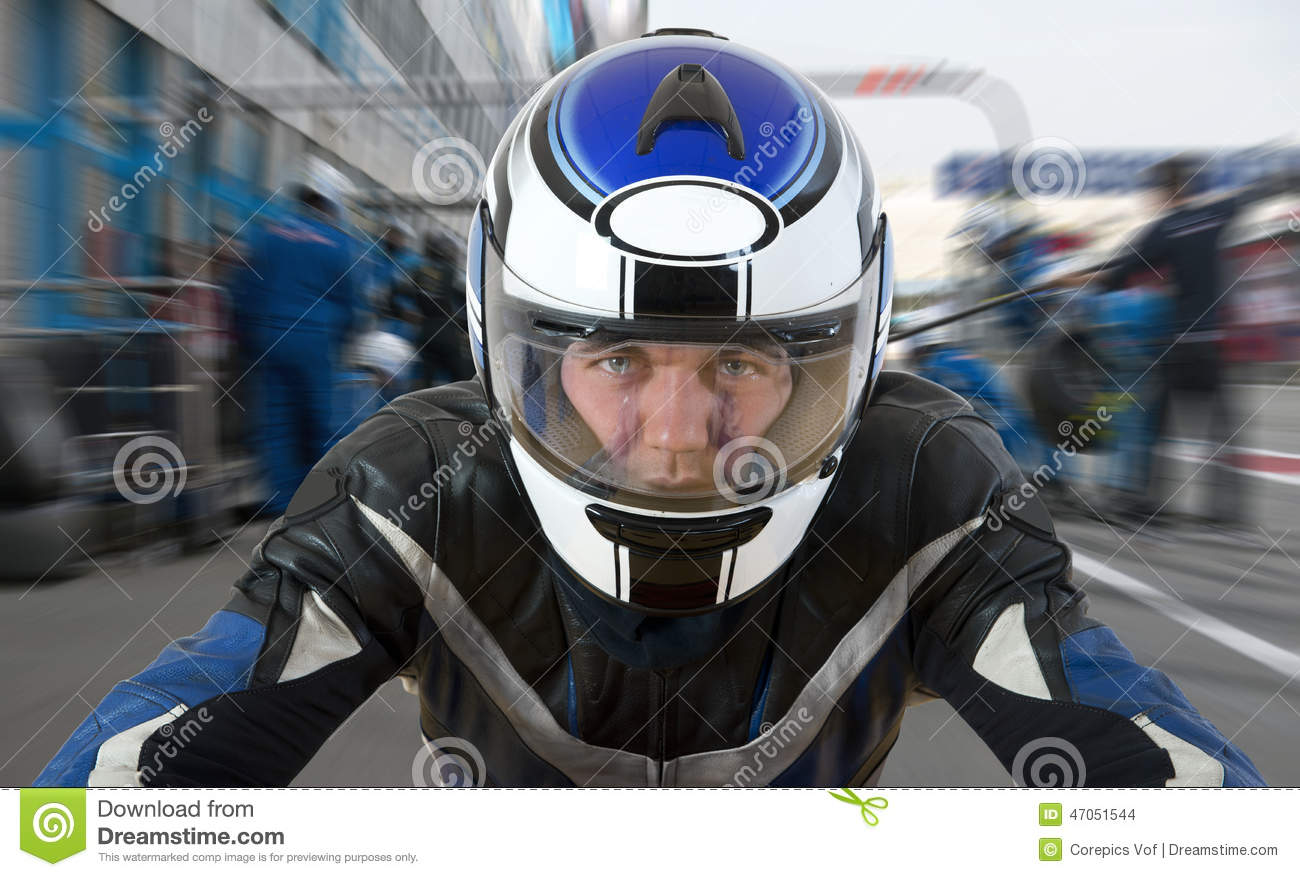helmet: (477, 43, 892, 578)
